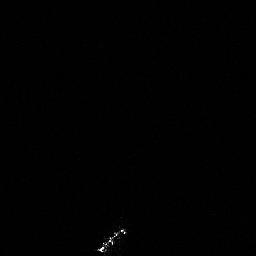ship: (93, 222, 130, 255)
